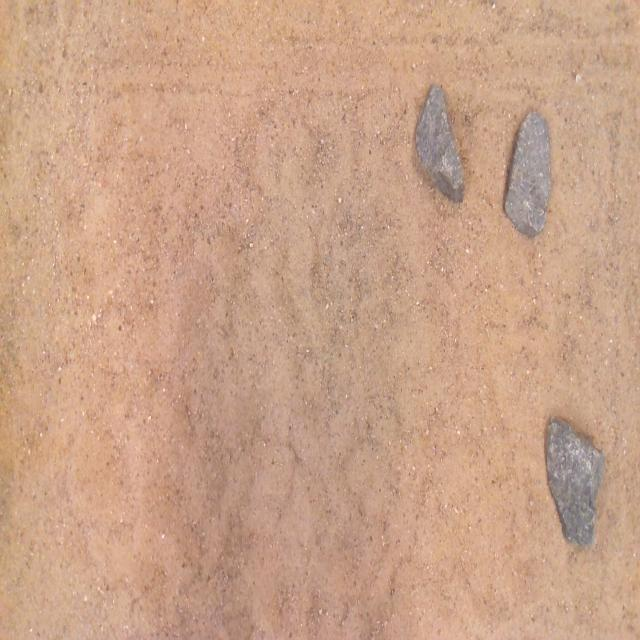rock: (546, 418, 604, 545), (504, 111, 550, 236), (416, 85, 464, 201)
